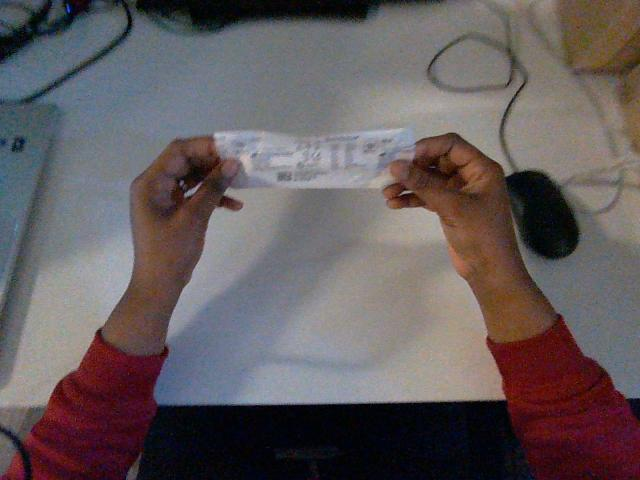syringe: (214, 129, 413, 187)
